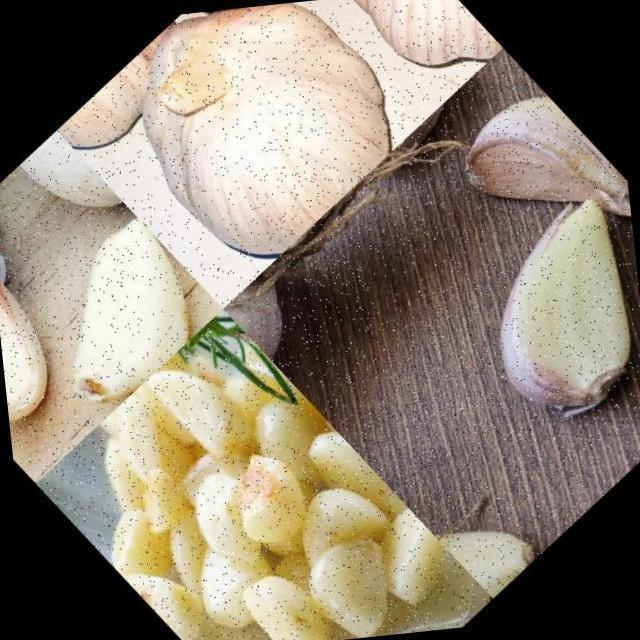garlic: (19, 287, 463, 640), (74, 0, 440, 297), (433, 190, 640, 456), (2, 204, 232, 428), (432, 62, 636, 280), (285, 0, 507, 119), (0, 214, 98, 446), (410, 462, 543, 604), (219, 262, 327, 374), (0, 186, 55, 355)
